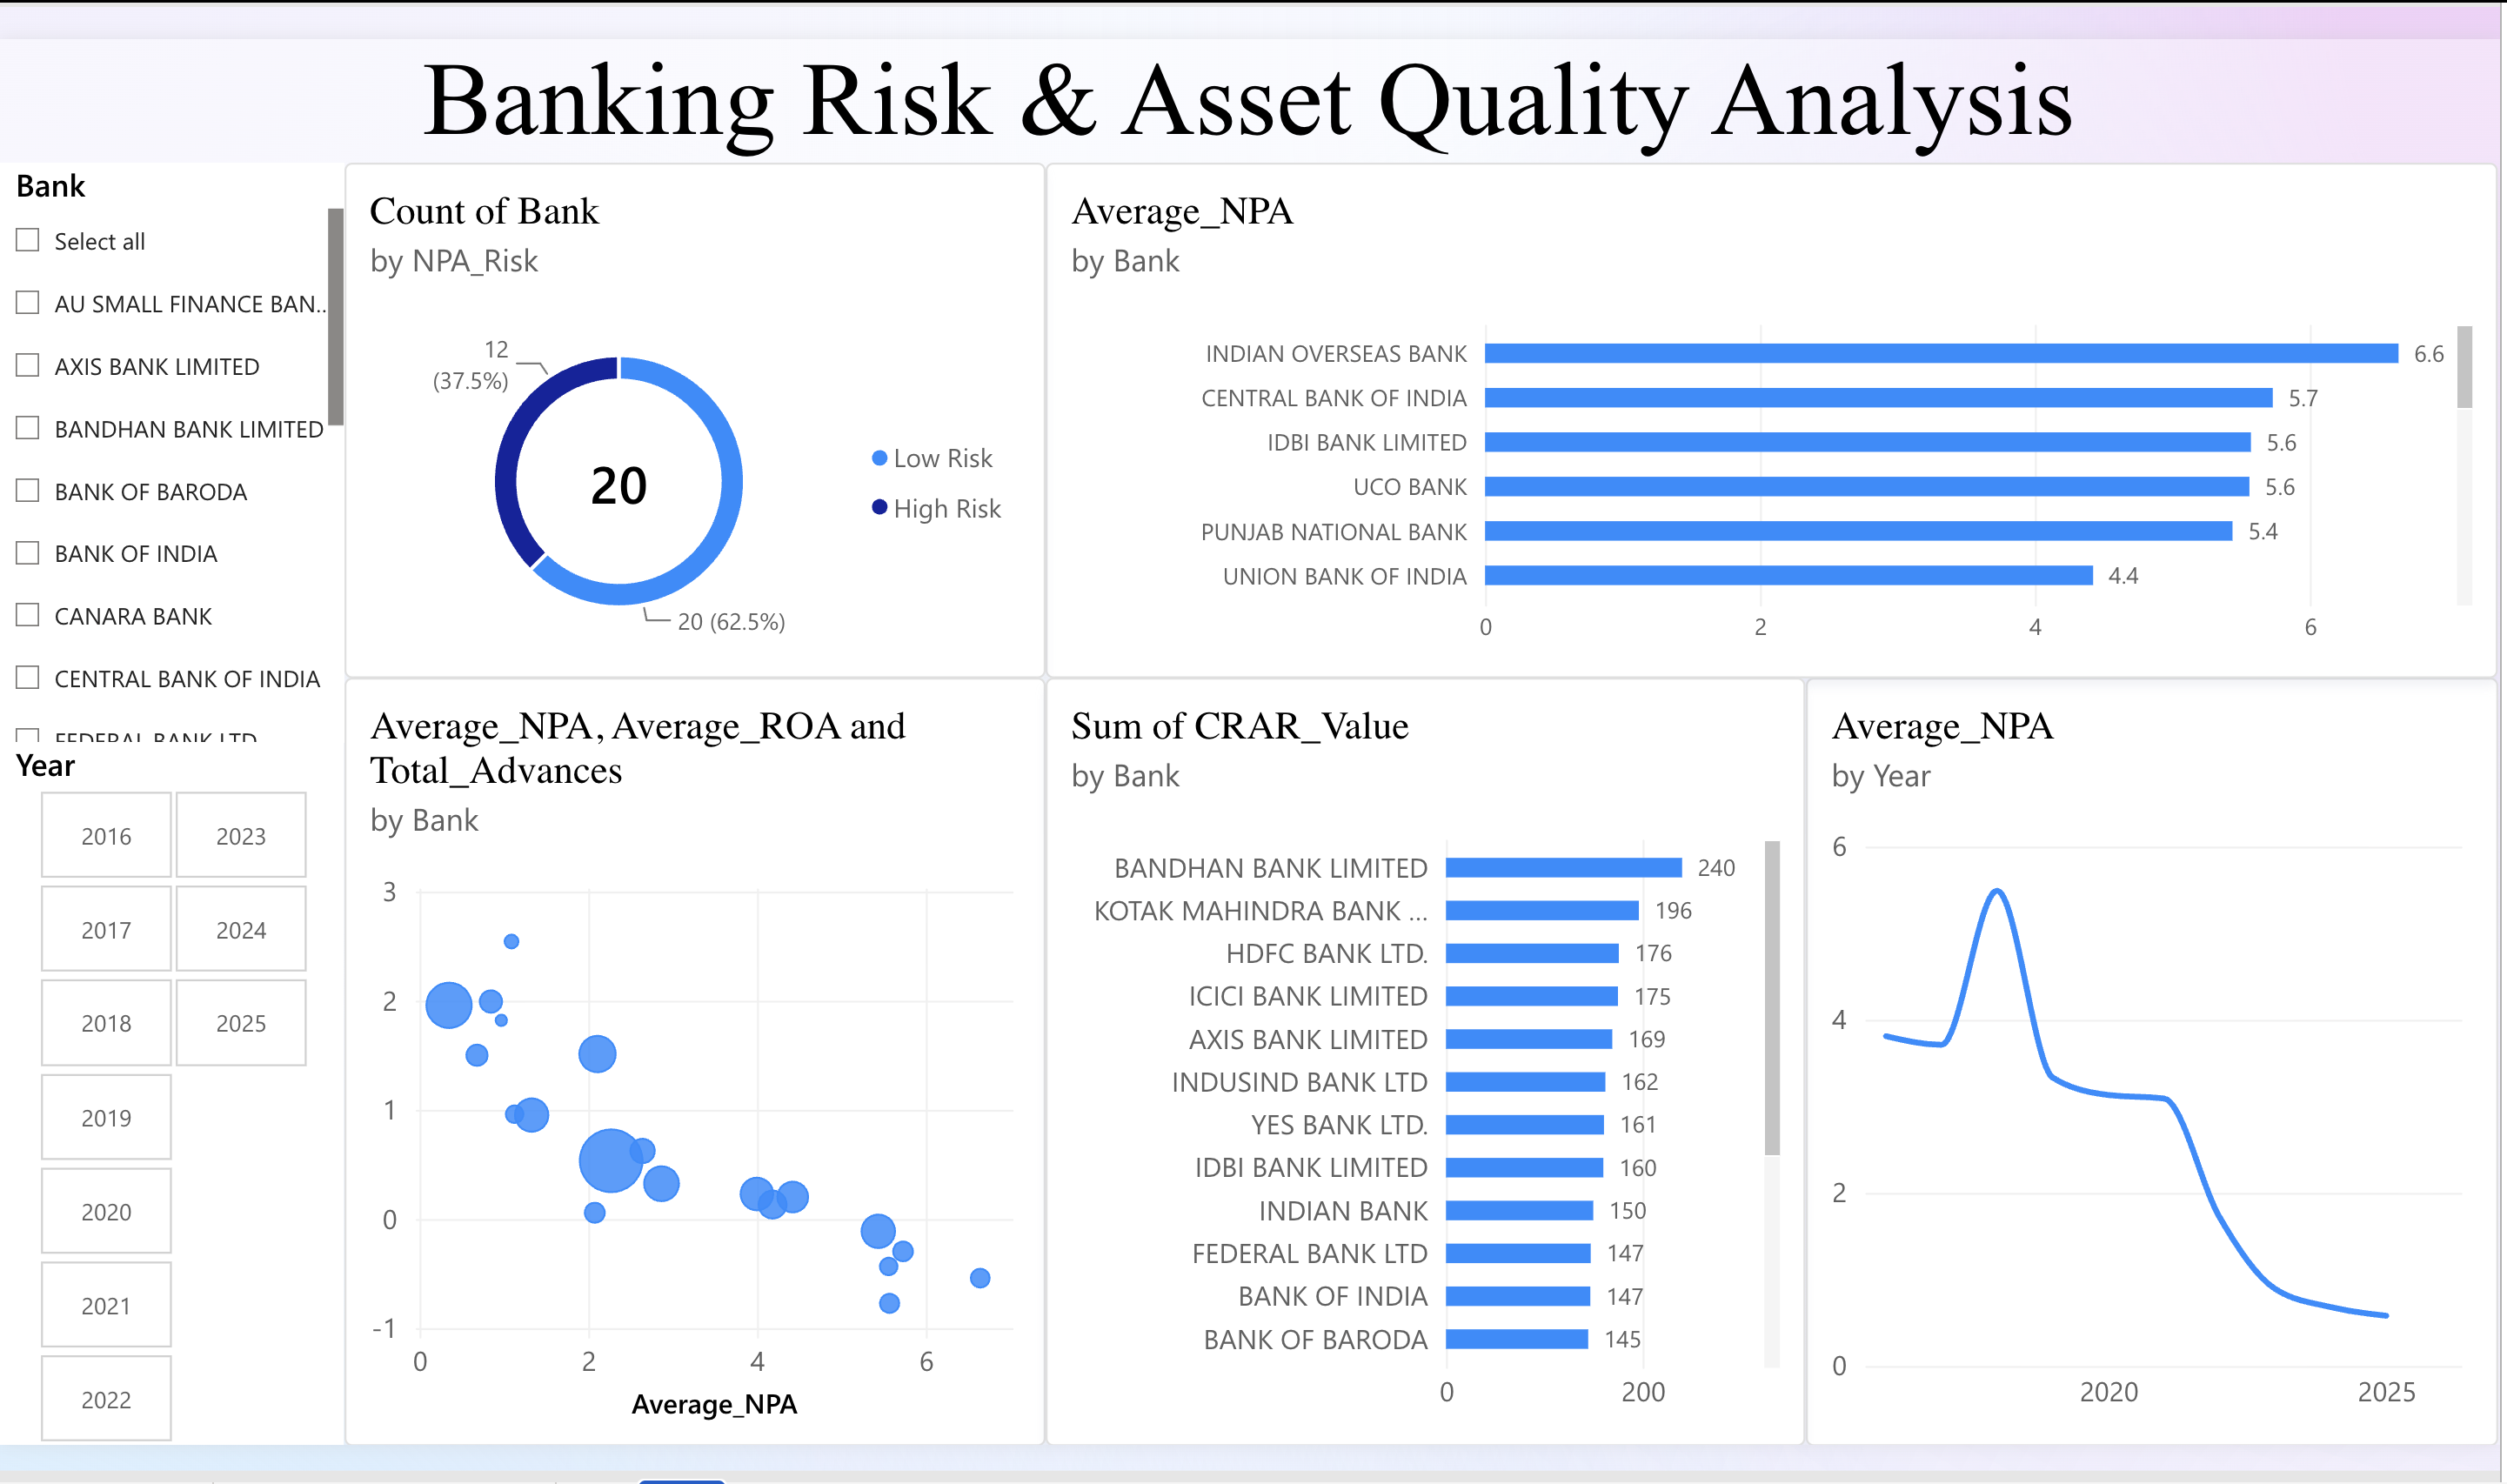

The page's visual inventory and layout, read from the dashboard file:
{"tool":"powerbi","page":{"name":"Page 3","canvas":[1280,720],"ordinal":2},"visuals":[{"type":"lineChart","fields":{"Category":["Ratio.Year"],"Y":["Ratio.Average_NPA"]},"box":[924.3,326.9,354.6,393.4],"z":0},{"type":"clusteredBarChart","fields":{"Category":["Ratio.Bank"],"Y":["Ratio.Average_NPA"]},"box":[535.3,63.2,743.6,263.8],"z":1000},{"type":"donutChart","fields":{"Category":["Ratio.NPA_Risk"],"Y":["Count(Ratio.Bank)"]},"box":[176.2,63.2,359.1,263.8],"z":2001},{"type":"scatterChart","fields":{"Category":["BankTable.Bank"],"Size":["ASSETS.Total_Advances"],"X":["Ratio.Average_NPA"],"Y":["Ratio.Average_ROA"]},"box":[176.2,326.9,359.1,393.4],"z":2002},{"type":"barChart","fields":{"Category":["BankTable.Bank"],"Y":["Sum(CRAR.CRAR_Value)"]},"box":[535.3,326.9,389,393.4],"z":2003},{"type":"slicer","fields":{"Values":["BankTable.Bank"]},"box":[0,63.2,176.2,297],"z":2004},{"type":"slicer","fields":{"Values":["YearTable.Year"]},"box":[0,360.2,176.2,360.2],"z":2005},{"type":"textbox","box":[236.1,99.7,164,300.3],"z":2006},{"type":"textbox","box":[0,0,1278.7,63.5],"z":2007}]}

Visuals, with their boxes on the page's 1280x720 design canvas (x1, y1, x2, y2). These are canvas units, not pixel positions in the 2507x1484 screenshot, which may show the page scaled, cropped or inside an application window:
lineChart - Ratio.Year x Ratio.Average_NPA: [x1=924, y1=327, x2=1279, y2=720]
clusteredBarChart - Ratio.Bank x Ratio.Average_NPA: [x1=535, y1=63, x2=1279, y2=327]
donutChart - Ratio.NPA_Risk x Count(Ratio.Bank): [x1=176, y1=63, x2=535, y2=327]
scatterChart - BankTable.Bank x ASSETS.Total_Advances: [x1=176, y1=327, x2=535, y2=720]
barChart - BankTable.Bank x Sum(CRAR.CRAR_Value): [x1=535, y1=327, x2=924, y2=720]
slicer - BankTable.Bank: [x1=0, y1=63, x2=176, y2=360]
slicer - YearTable.Year: [x1=0, y1=360, x2=176, y2=720]
textbox: [x1=236, y1=100, x2=400, y2=400]
textbox: [x1=0, y1=0, x2=1279, y2=64]
